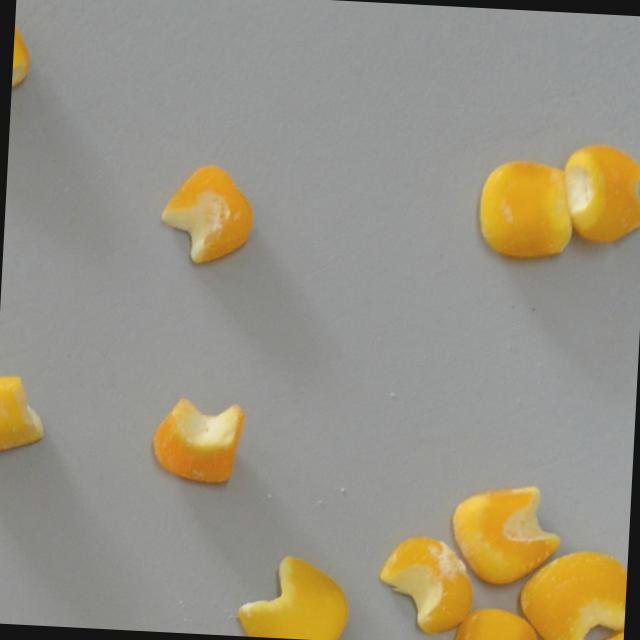no_canjicado: (448, 476, 569, 592), (156, 160, 260, 271), (233, 549, 357, 640), (514, 544, 628, 640), (560, 138, 640, 250), (448, 603, 541, 640), (10, 0, 36, 120)
no_desgerminado: (475, 156, 577, 263)
pelicula: (372, 528, 480, 638), (0, 365, 54, 468), (576, 621, 625, 640)
punto_negro: (148, 393, 250, 489)
